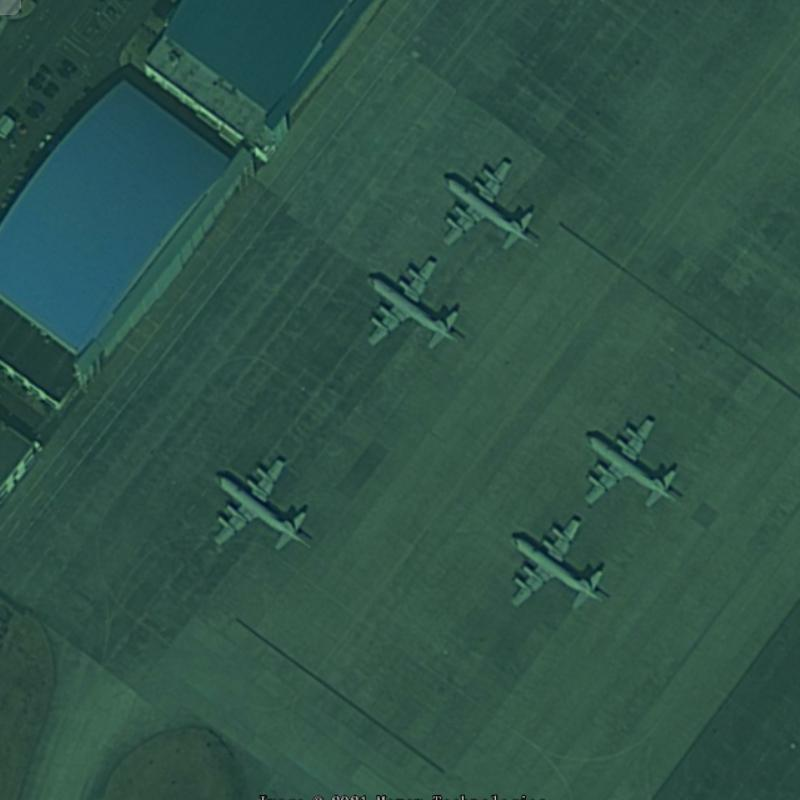A9: (496, 510, 612, 623), (202, 449, 316, 558), (433, 149, 539, 254), (358, 253, 466, 355), (576, 410, 681, 512)
